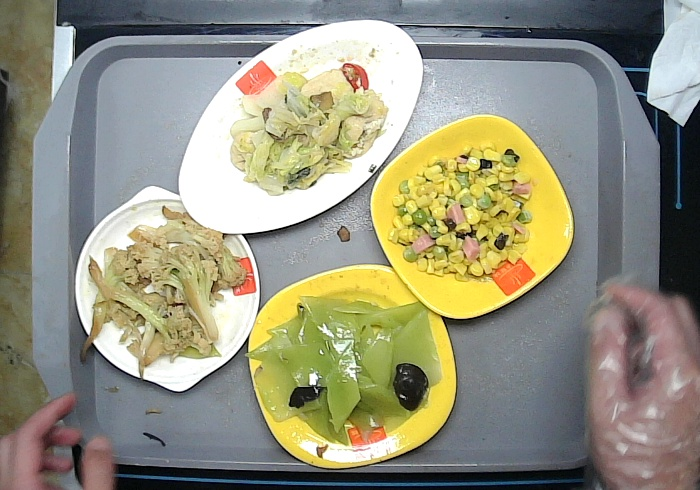SHKJ-Bao_Yu_Pan: (72, 183, 262, 397)
SHKJ-Huang_Se_Cai_Die: (367, 113, 578, 325)
SHKJ-Huang_Se_Si_Fang_Cai_Die: (245, 262, 460, 474)
SHKJ-Yu_Pan: (175, 17, 426, 237)
